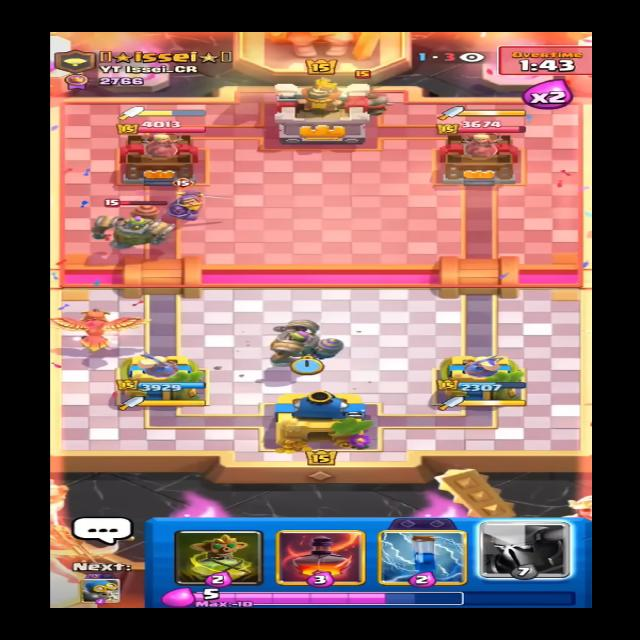EvoKnight: (155, 172, 230, 222)
Goblinmachine: (93, 198, 176, 254)
Ramrider: (348, 67, 393, 111)
